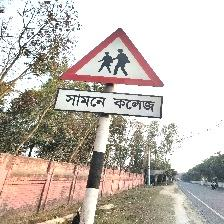College-in-front: (52, 19, 183, 146)
